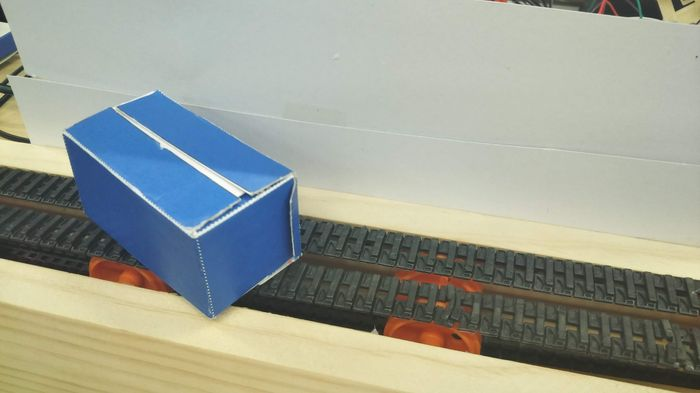box3: (58, 87, 305, 321)
